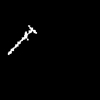double_crochet: (8, 26, 36, 54)
